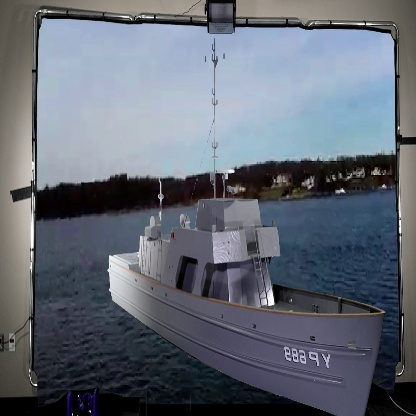YP689: (107, 33, 385, 415)
